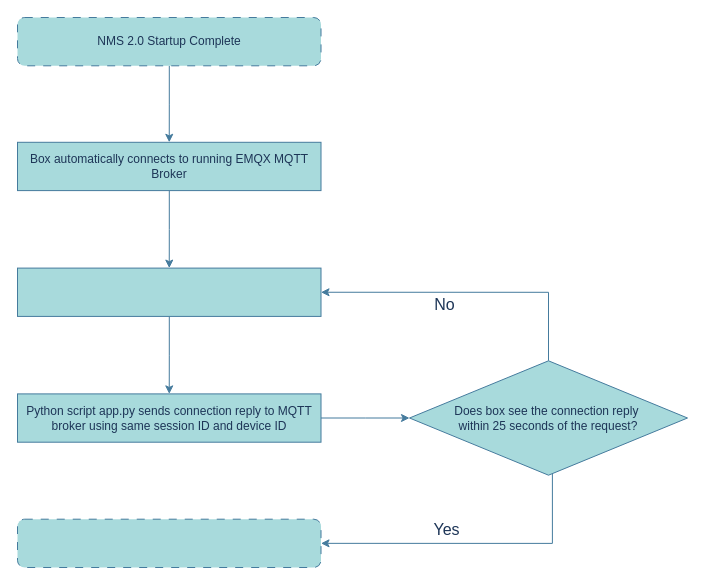
The diagram is 712 pixels wide and 585 high, and some of its shapes have lost their labels. Each missing label, with the centre of its shape:
"Box sends connection request to EMQX with unique session ID" goes at point (168, 291).
"Connection handshake complete. Python script app.py begins sending commands." goes at point (168, 543).
